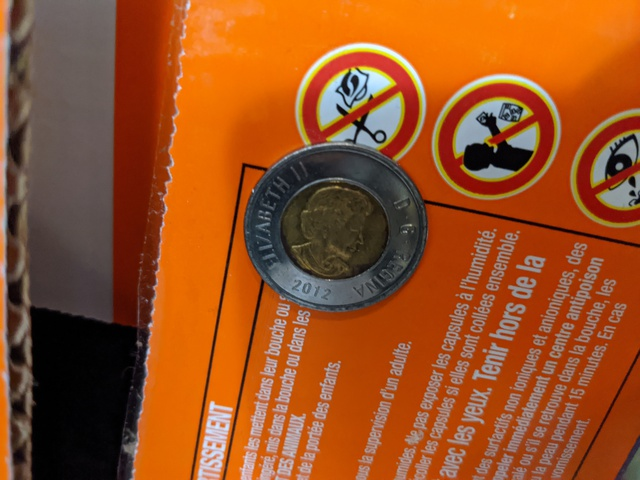twonie: (232, 127, 432, 316)
